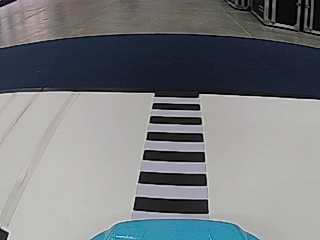CrossWalk: (131, 93, 214, 218)
